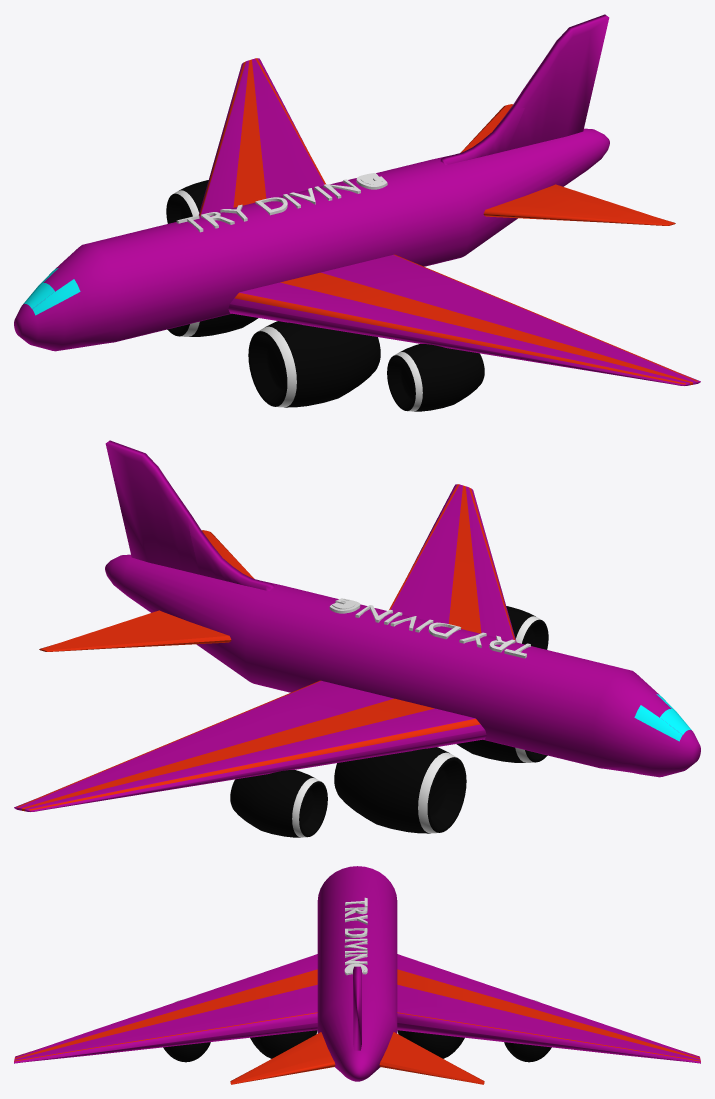
The model's file is aeroplane 2.fbx.
3 renders of one model, top to bottom at view 1: azimuth 30°, elevation 25°; view 2: azimuth 150°, elevation 25°; view 3: azimuth 270°, elevation 25°, orthographic. The views are drawn at different scales.
Parts seen in each view (by area): view 1: Cylinder, Cube.001, Cube.003, Cylinder.001, Cube, Cylinder.002, Cube.002, Text.001, Cylinder.004, Cylinder.003; view 2: Cylinder, Cube.003, Cube.001, Cylinder.004, Cube, Cylinder.003, Cube.004, Text.001, Cylinder.001, Cylinder.002; view 3: Cylinder, Cube.001, Cube.003, Cube.002, Cube.004, Text.001, Cylinder.001, Cylinder.004, Cube, Cylinder.002, Cylinder.003.
Part boxes in pixels (<box>): Cylinder: <box>14,128,609,351</box>; Cube.001: <box>228,254,700,385</box>; Cube.003: <box>198,58,325,215</box>; Cylinder.001: <box>248,321,380,407</box>; Cube: <box>440,14,609,164</box>; Cylinder.002: <box>387,344,484,411</box>; Cube.002: <box>483,184,675,225</box>; Text.001: <box>176,173,387,232</box>; Cylinder.004: <box>167,313,258,336</box>; Cylinder.003: <box>166,180,208,223</box>; Cylinder: <box>105,554,700,777</box>; Cube.003: <box>14,680,486,811</box>; Cube.001: <box>389,484,516,642</box>; Cylinder.004: <box>334,747,466,833</box>; Cube: <box>105,440,274,590</box>; Cylinder.003: <box>230,770,327,837</box>; Cube.004: <box>39,610,231,651</box>; Text.001: <box>329,598,530,658</box>; Cylinder.001: <box>456,739,547,762</box>; Cylinder.002: <box>506,606,548,649</box>; Cylinder: <box>317,866,397,1081</box>; Cube.001: <box>14,954,317,1063</box>; Cube.003: <box>397,954,700,1063</box>; Cube.002: <box>230,1032,335,1084</box>; Cube.004: <box>379,1032,484,1084</box>; Text.001: <box>344,897,367,975</box>; Cylinder.001: <box>250,1030,317,1058</box>; Cylinder.004: <box>397,1030,464,1058</box>; Cube: <box>353,966,361,1050</box>; Cylinder.002: <box>163,999,210,1062</box>; Cylinder.003: <box>504,999,551,1062</box>.
Bounding box in the file's own units: 2840 × 1220 × 3684.
